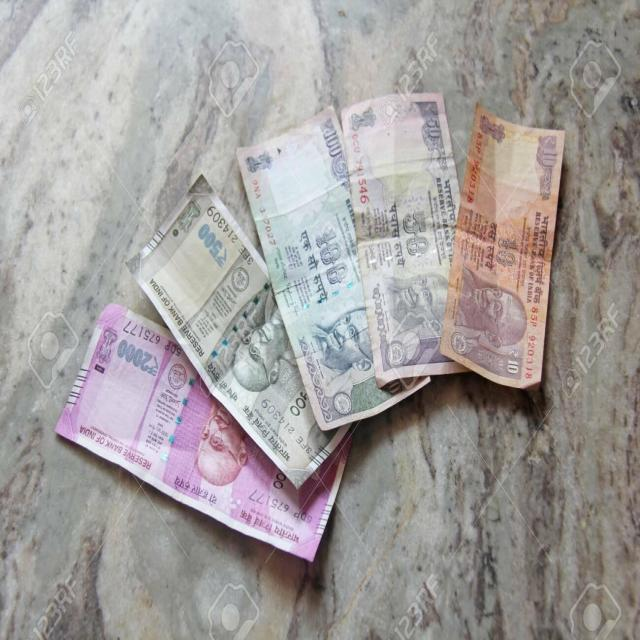50IndianRupees: (343, 88, 462, 386)
